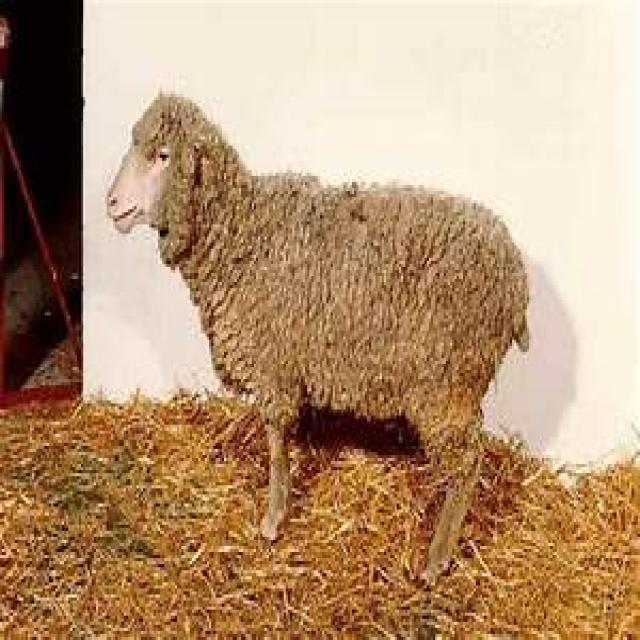animal: (112, 94, 536, 583)
